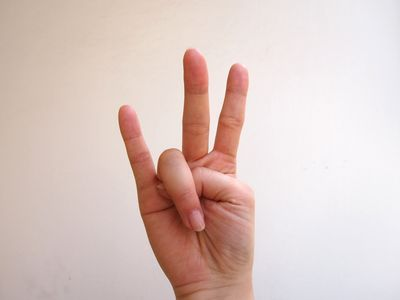hand: (118, 46, 256, 287)
